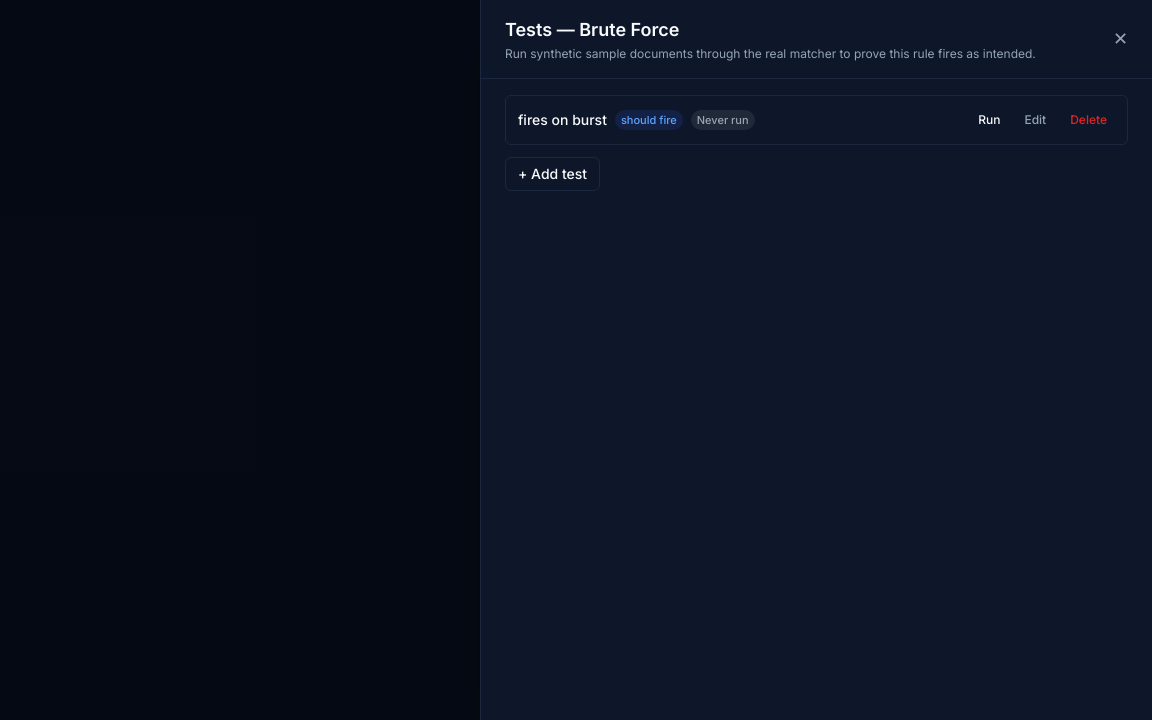
Test: SearchRuleTestsDrawer › runs a test and shows the pass result
Expected: the text "fires on burst" is shown, [518,110,607,130]
Click the button "Run". click: (989, 120)
box: [970,108,1008,132]
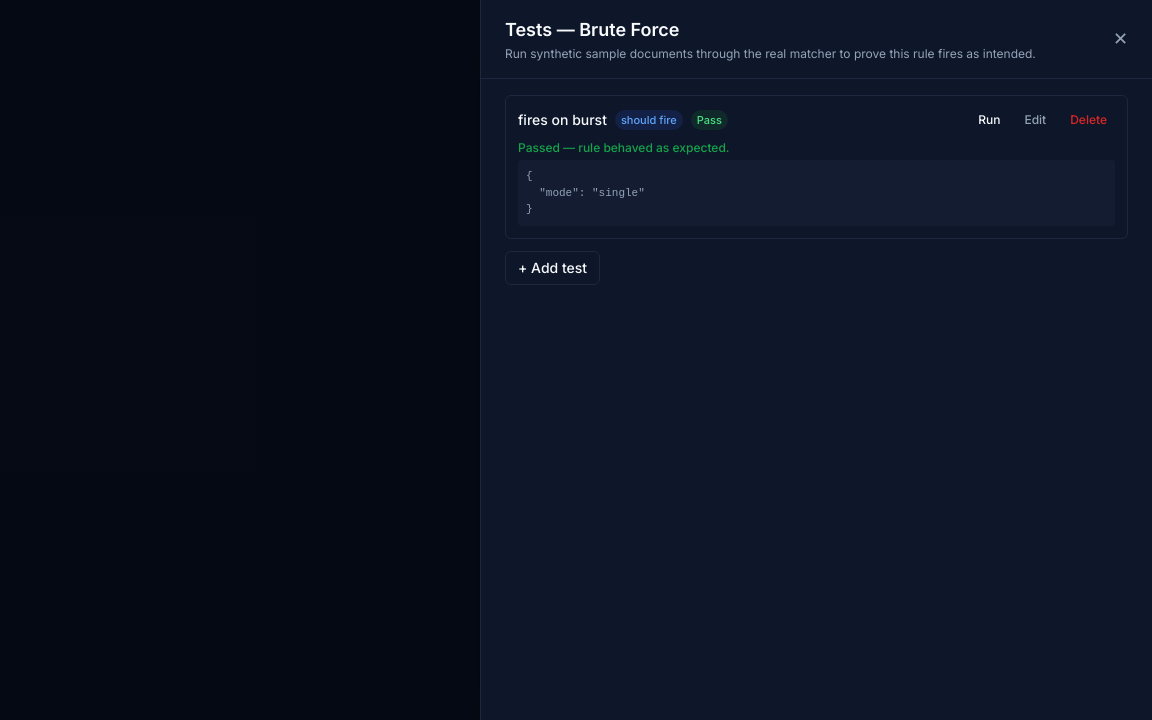
Expected: the text "Passed — rule behaved as expected." is shown, [518,140,730,155]
